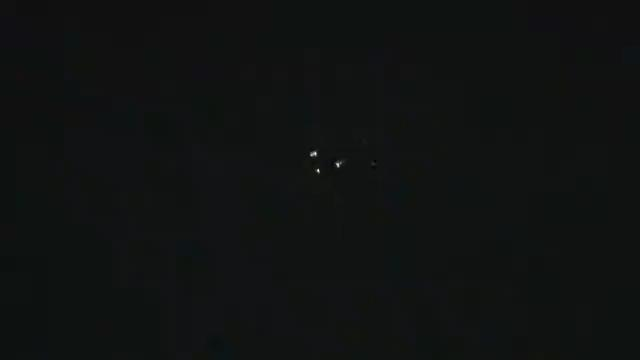Plane: (289, 141, 342, 185)
